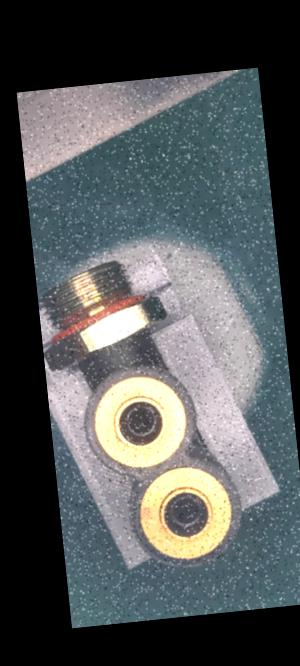craze: (106, 344, 116, 358)
